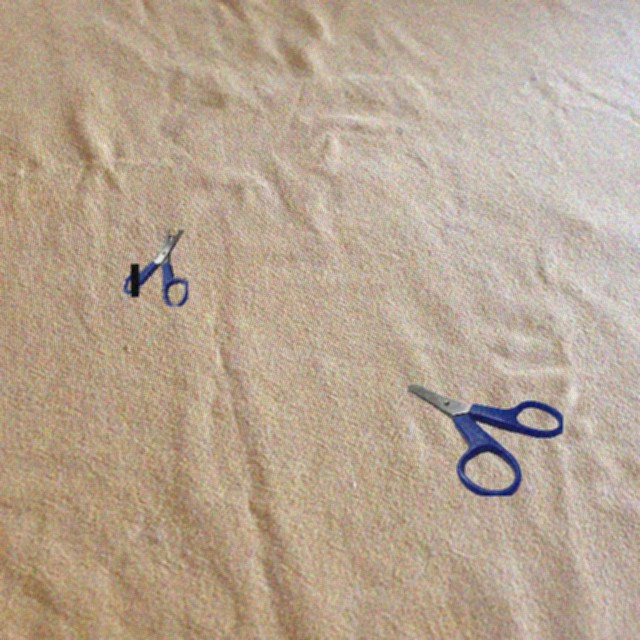scissors: (406, 383, 563, 496), (123, 228, 188, 306)
